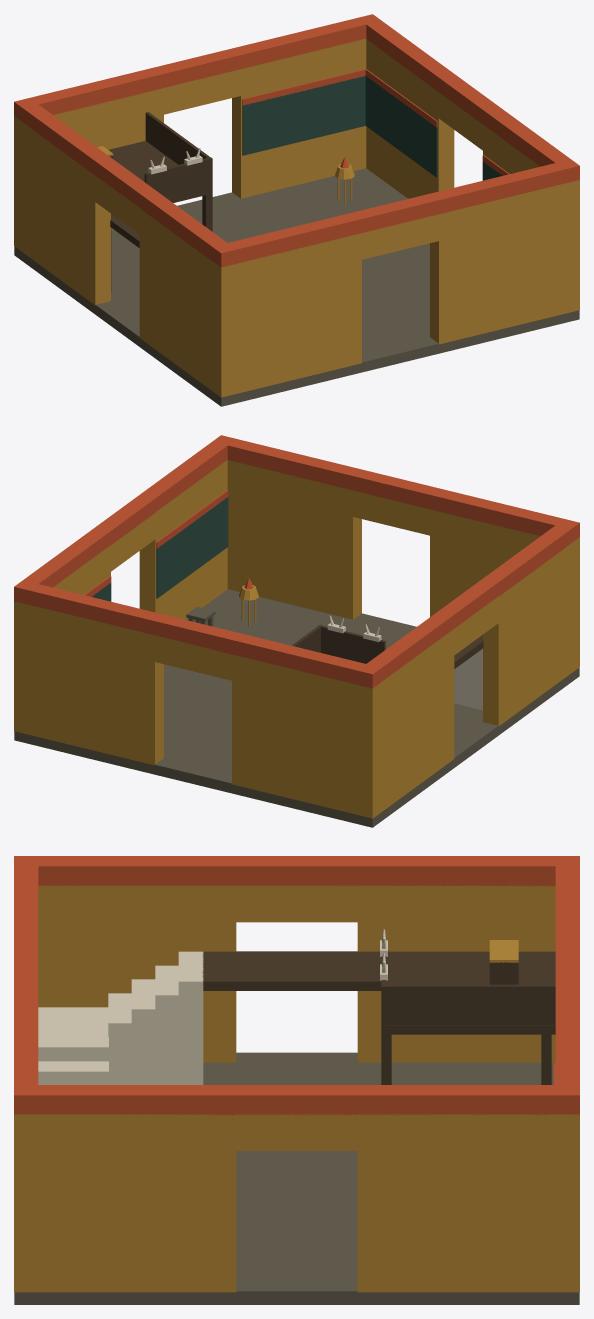
The model's file is BronzeMegaronStair.fbx.
3 renders of one model, top to bottom at view 1: azimuth 30°, elevation 25°; view 2: azimuth 150°, elevation 25°; view 3: azimuth 270°, elevation 25°, orthographic. The views are drawn at different scales.
Parts seen in each view (by area): view 1: BronzeMegaronStair; view 2: BronzeMegaronStair; view 3: BronzeMegaronStair.
Boxes of the visible parts, bbox=[...] form: BronzeMegaronStair: bbox=[14, 14, 579, 406]; BronzeMegaronStair: bbox=[14, 435, 579, 827]; BronzeMegaronStair: bbox=[14, 856, 579, 1304].
Bounding box in the file's own units: 1202 × 492 × 1202.
6 materials, 6 textured.
